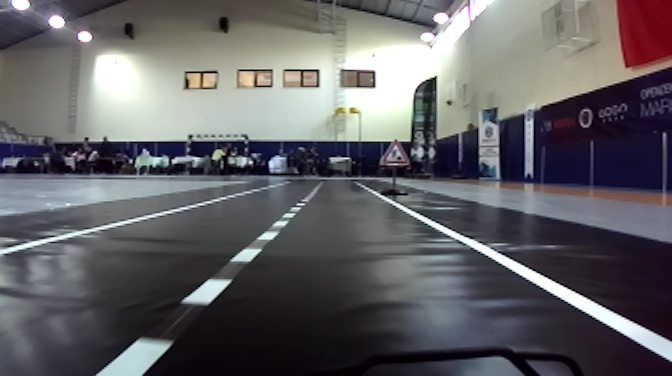yol_yapimi: (375, 139, 411, 167)
